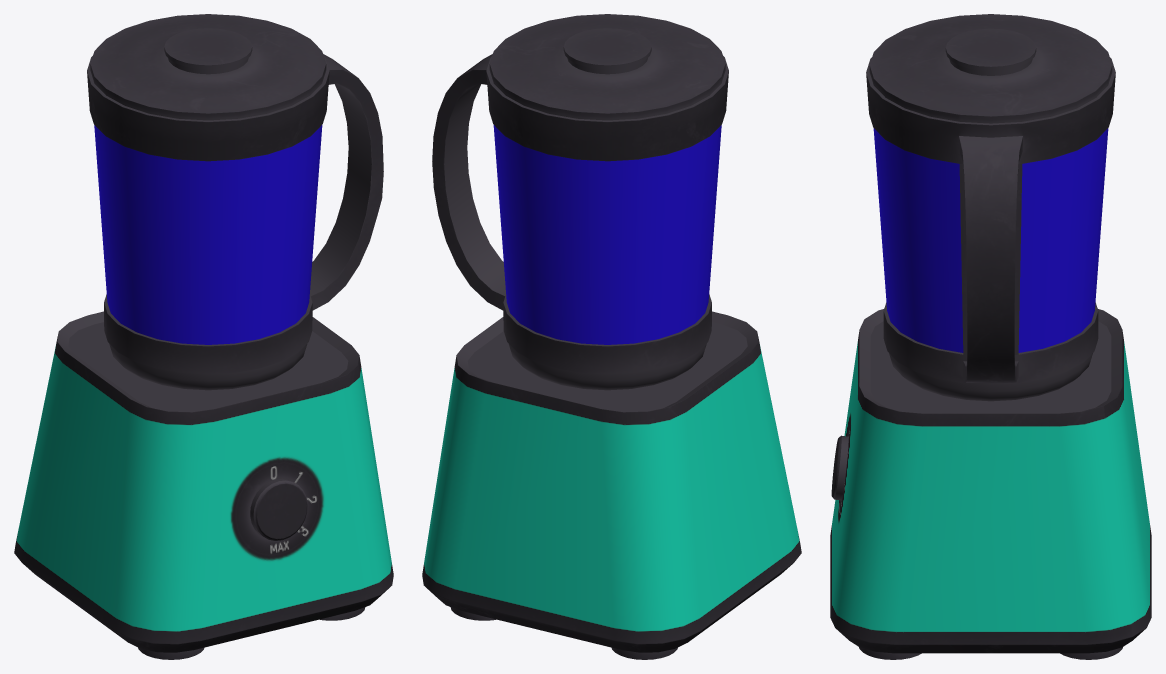
Rendered from kitchenblender.fbx.
The picture shows the model from 3 angles, left to right: view 1: azimuth 30°, elevation 25°; view 2: azimuth 150°, elevation 25°; view 3: azimuth 270°, elevation 25°; orthographic projection. The views are drawn at different scales.
Visible parts, largest first — view 1: Cube.002, Cylinder.006, Cylinder.004, Cylinder.005; view 2: Cube.002, Cylinder.006, Cylinder.004, Cylinder.005; view 3: Cube.002, Cylinder.004, Cylinder.006, Cylinder.005.
Part boxes in pixels (<box>): Cube.002: <box>14,311,393,659</box>; Cylinder.006: <box>94,125,322,344</box>; Cylinder.004: <box>87,54,383,390</box>; Cylinder.005: <box>90,14,326,120</box>; Cube.002: <box>422,311,801,659</box>; Cylinder.006: <box>493,125,721,344</box>; Cylinder.004: <box>432,54,728,390</box>; Cylinder.005: <box>489,14,725,120</box>; Cube.002: <box>830,309,1151,659</box>; Cylinder.004: <box>866,57,1115,401</box>; Cylinder.006: <box>873,128,1108,352</box>; Cylinder.005: <box>869,14,1112,123</box>.
Size of the model in its own units: 29.91 by 51.17 by 26.65.
